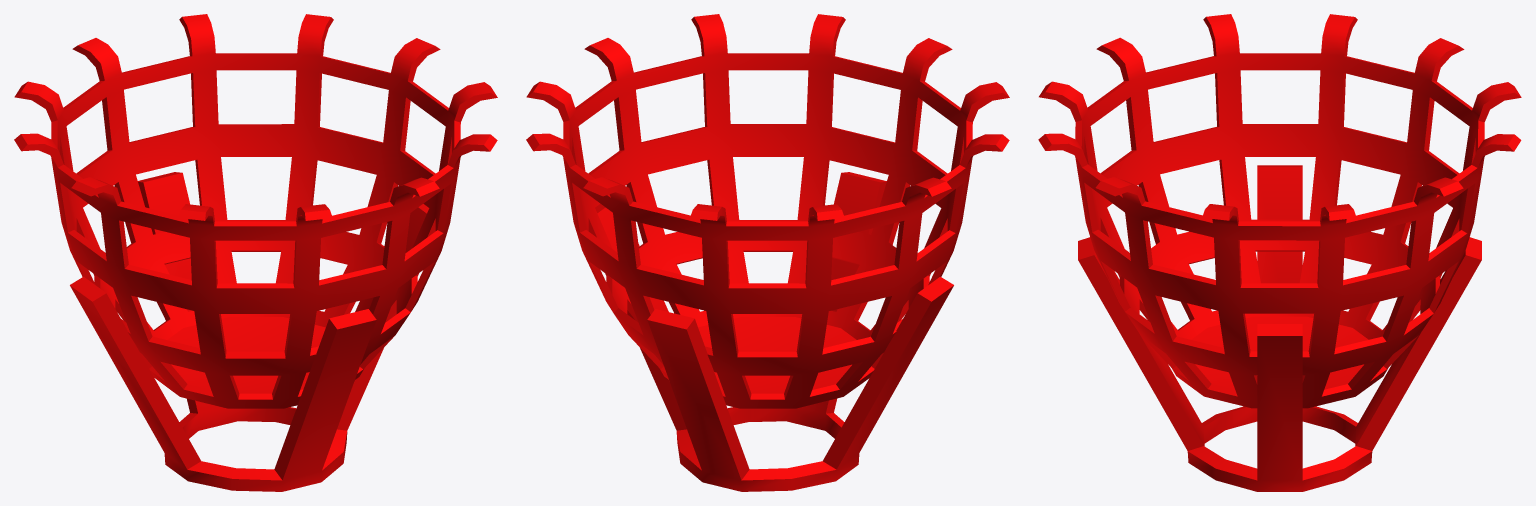
File: Dungeon_Brazier.fbx
3 renders of one model, left to right at view 1: azimuth 30°, elevation 25°; view 2: azimuth 150°, elevation 25°; view 3: azimuth 270°, elevation 25°, orthographic.
Visible parts, largest first — view 1: fuel_source; view 2: fuel_source; view 3: fuel_source.
Boxes of the visible parts, bbox=[...] form: fuel_source: bbox=[14, 14, 497, 491]; fuel_source: bbox=[526, 14, 1009, 491]; fuel_source: bbox=[1038, 14, 1521, 491].
Bounding box in the file's own units: 149 × 116 × 149.
